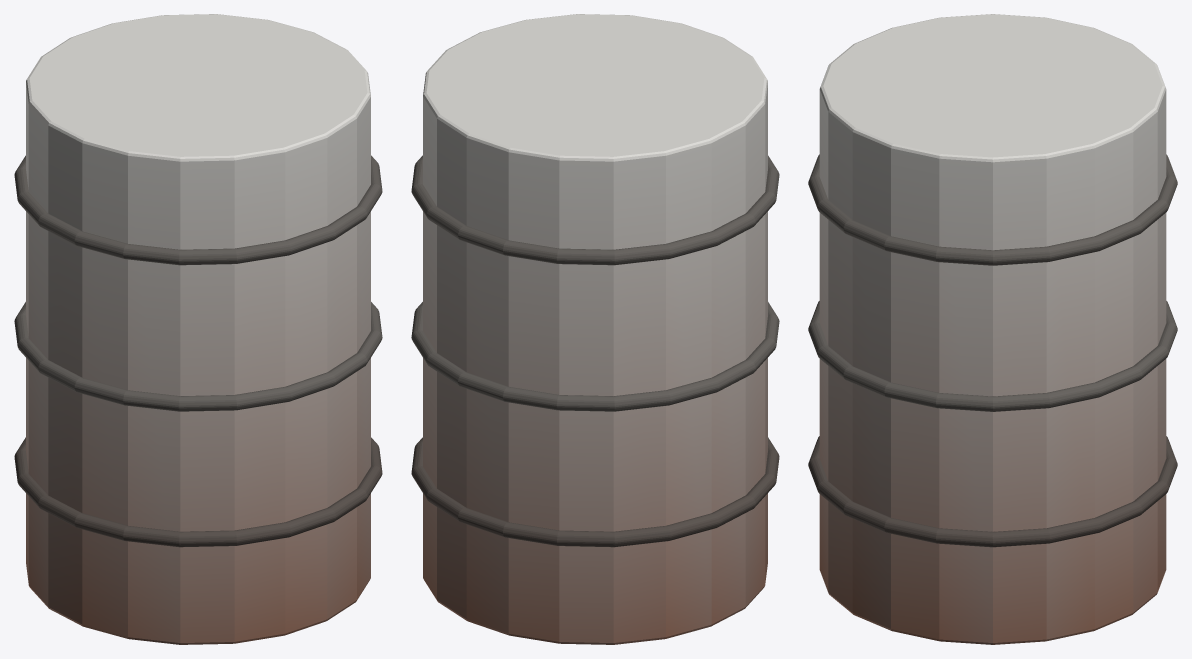
The model's file is barrel.glb.
3 renders of one model, left to right at view 1: azimuth 30°, elevation 25°; view 2: azimuth 150°, elevation 25°; view 3: azimuth 270°, elevation 25°, orthographic.
Visible parts, largest first — view 1: barrel_body, barrel_ring_2, barrel_ring_0, barrel_ring_1; view 2: barrel_body, barrel_ring_2, barrel_ring_0, barrel_ring_1; view 3: barrel_body, barrel_ring_0, barrel_ring_1, barrel_ring_2.
Boxes of the visible parts, x1,y1,x2,y2 form: barrel_body: (26,14,370,644); barrel_ring_2: (14,155,382,265); barrel_ring_0: (14,437,382,547); barrel_ring_1: (14,302,382,411); barrel_body: (423,14,767,644); barrel_ring_2: (411,155,779,265); barrel_ring_0: (411,437,779,547); barrel_ring_1: (411,302,779,411); barrel_body: (819,14,1166,644); barrel_ring_0: (808,436,1177,547); barrel_ring_1: (808,301,1177,411); barrel_ring_2: (808,154,1177,265).
Bounding box in the file's own units: 0.6187 × 0.9 × 0.6187.
